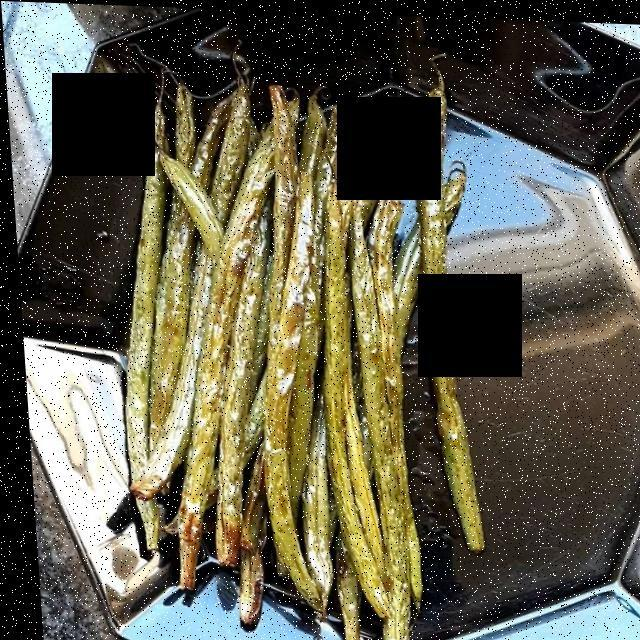green-bean: (125, 73, 433, 611)
